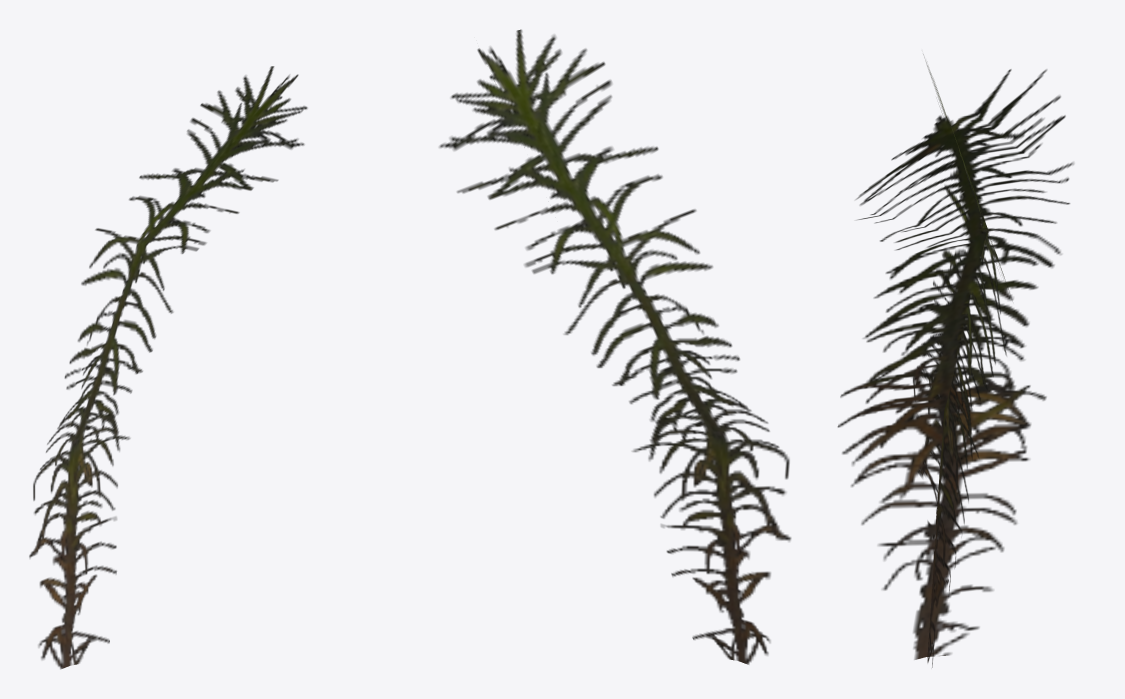
Rendered from moss_10.glb.
3 views of the same model, side by side, from view 1: azimuth 30°, elevation 25°; view 2: azimuth 150°, elevation 25°; view 3: azimuth 270°, elevation 25° (orthographic). The views are drawn at different scales.
Parts seen in each view (by area): view 1: IslandMoss10; view 2: IslandMoss10; view 3: IslandMoss10.
Part boxes in pixels (x1=…): IslandMoss10: x1=29, y1=66, x2=307, y2=669; IslandMoss10: x1=439, y1=29, x2=790, y2=664; IslandMoss10: x1=837, y1=54, x2=1073, y2=667.
Bounding box in the file's own units: 0.0214 × 0.0336 × 0.0113.
1 material, 1 textured.
